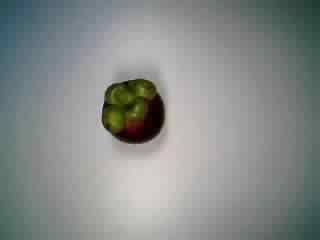mangosteen: (102, 77, 165, 143)
